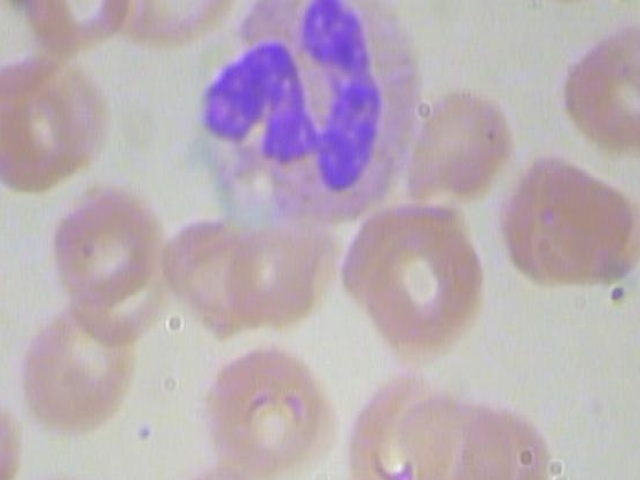RBC: (495, 151, 640, 298), (352, 212, 487, 363), (206, 338, 334, 475), (16, 300, 134, 432), (46, 172, 163, 303), (402, 82, 517, 207), (557, 24, 640, 149), (115, 0, 245, 49), (19, 0, 135, 51), (507, 0, 640, 5)
WBC: (188, 0, 439, 249)
